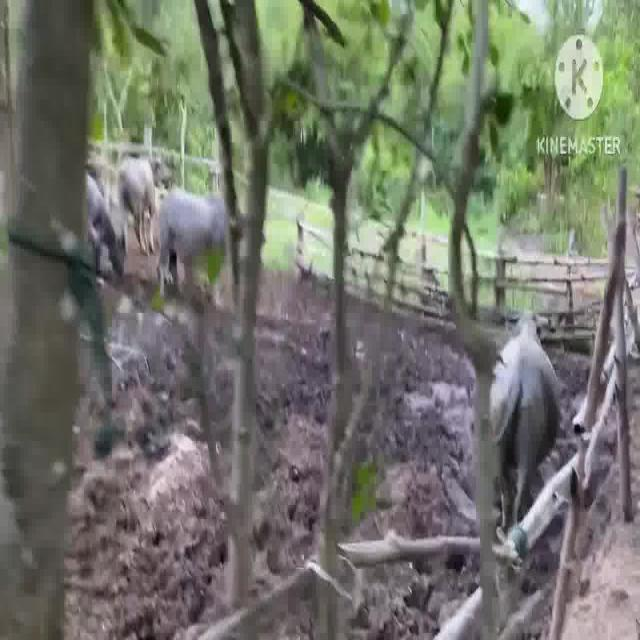buffalo: (488, 318, 573, 516), (106, 121, 168, 266), (147, 180, 230, 274)
